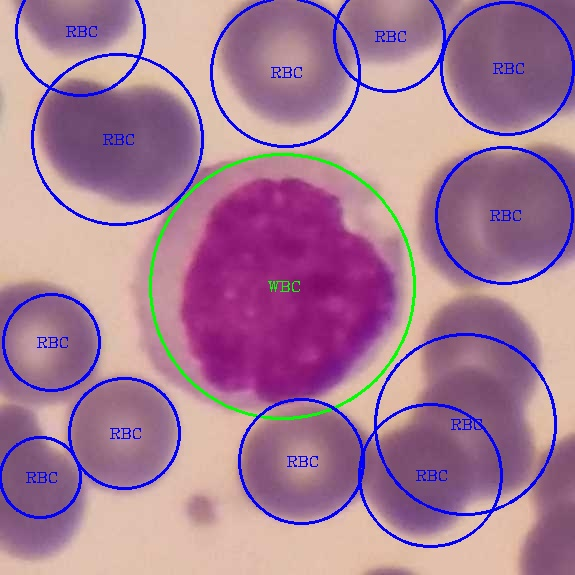RBC: (230, 398, 376, 532), (213, 0, 360, 133), (417, 291, 552, 424), (415, 368, 539, 501), (410, 144, 525, 287), (64, 371, 186, 502), (1, 275, 110, 409), (88, 84, 203, 199), (475, 141, 574, 270), (440, 1, 537, 131), (361, 424, 462, 537), (38, 73, 131, 195), (487, 0, 573, 113), (0, 440, 83, 557), (335, 1, 471, 71), (4, 0, 151, 64)
WBC: (122, 145, 409, 414)
